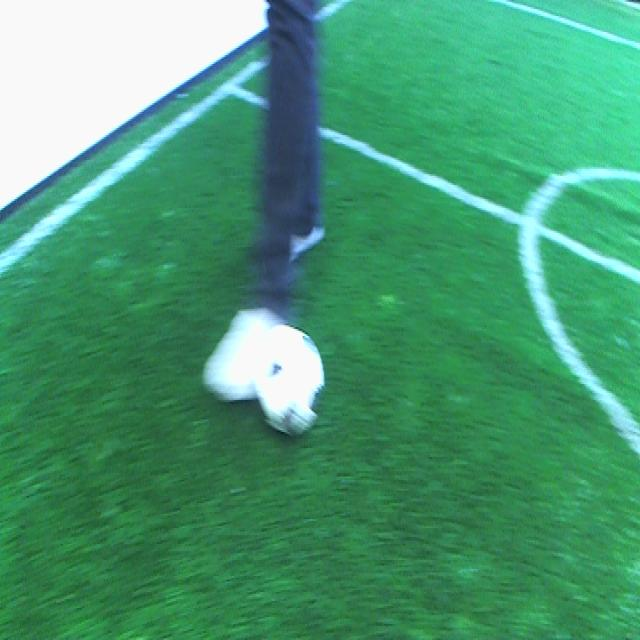ball: (254, 327, 326, 439)
